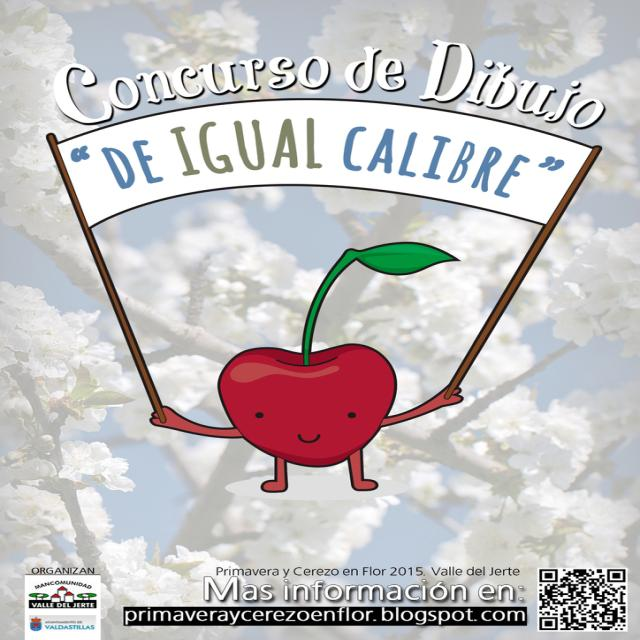Healty Apple: (148, 238, 464, 490)
